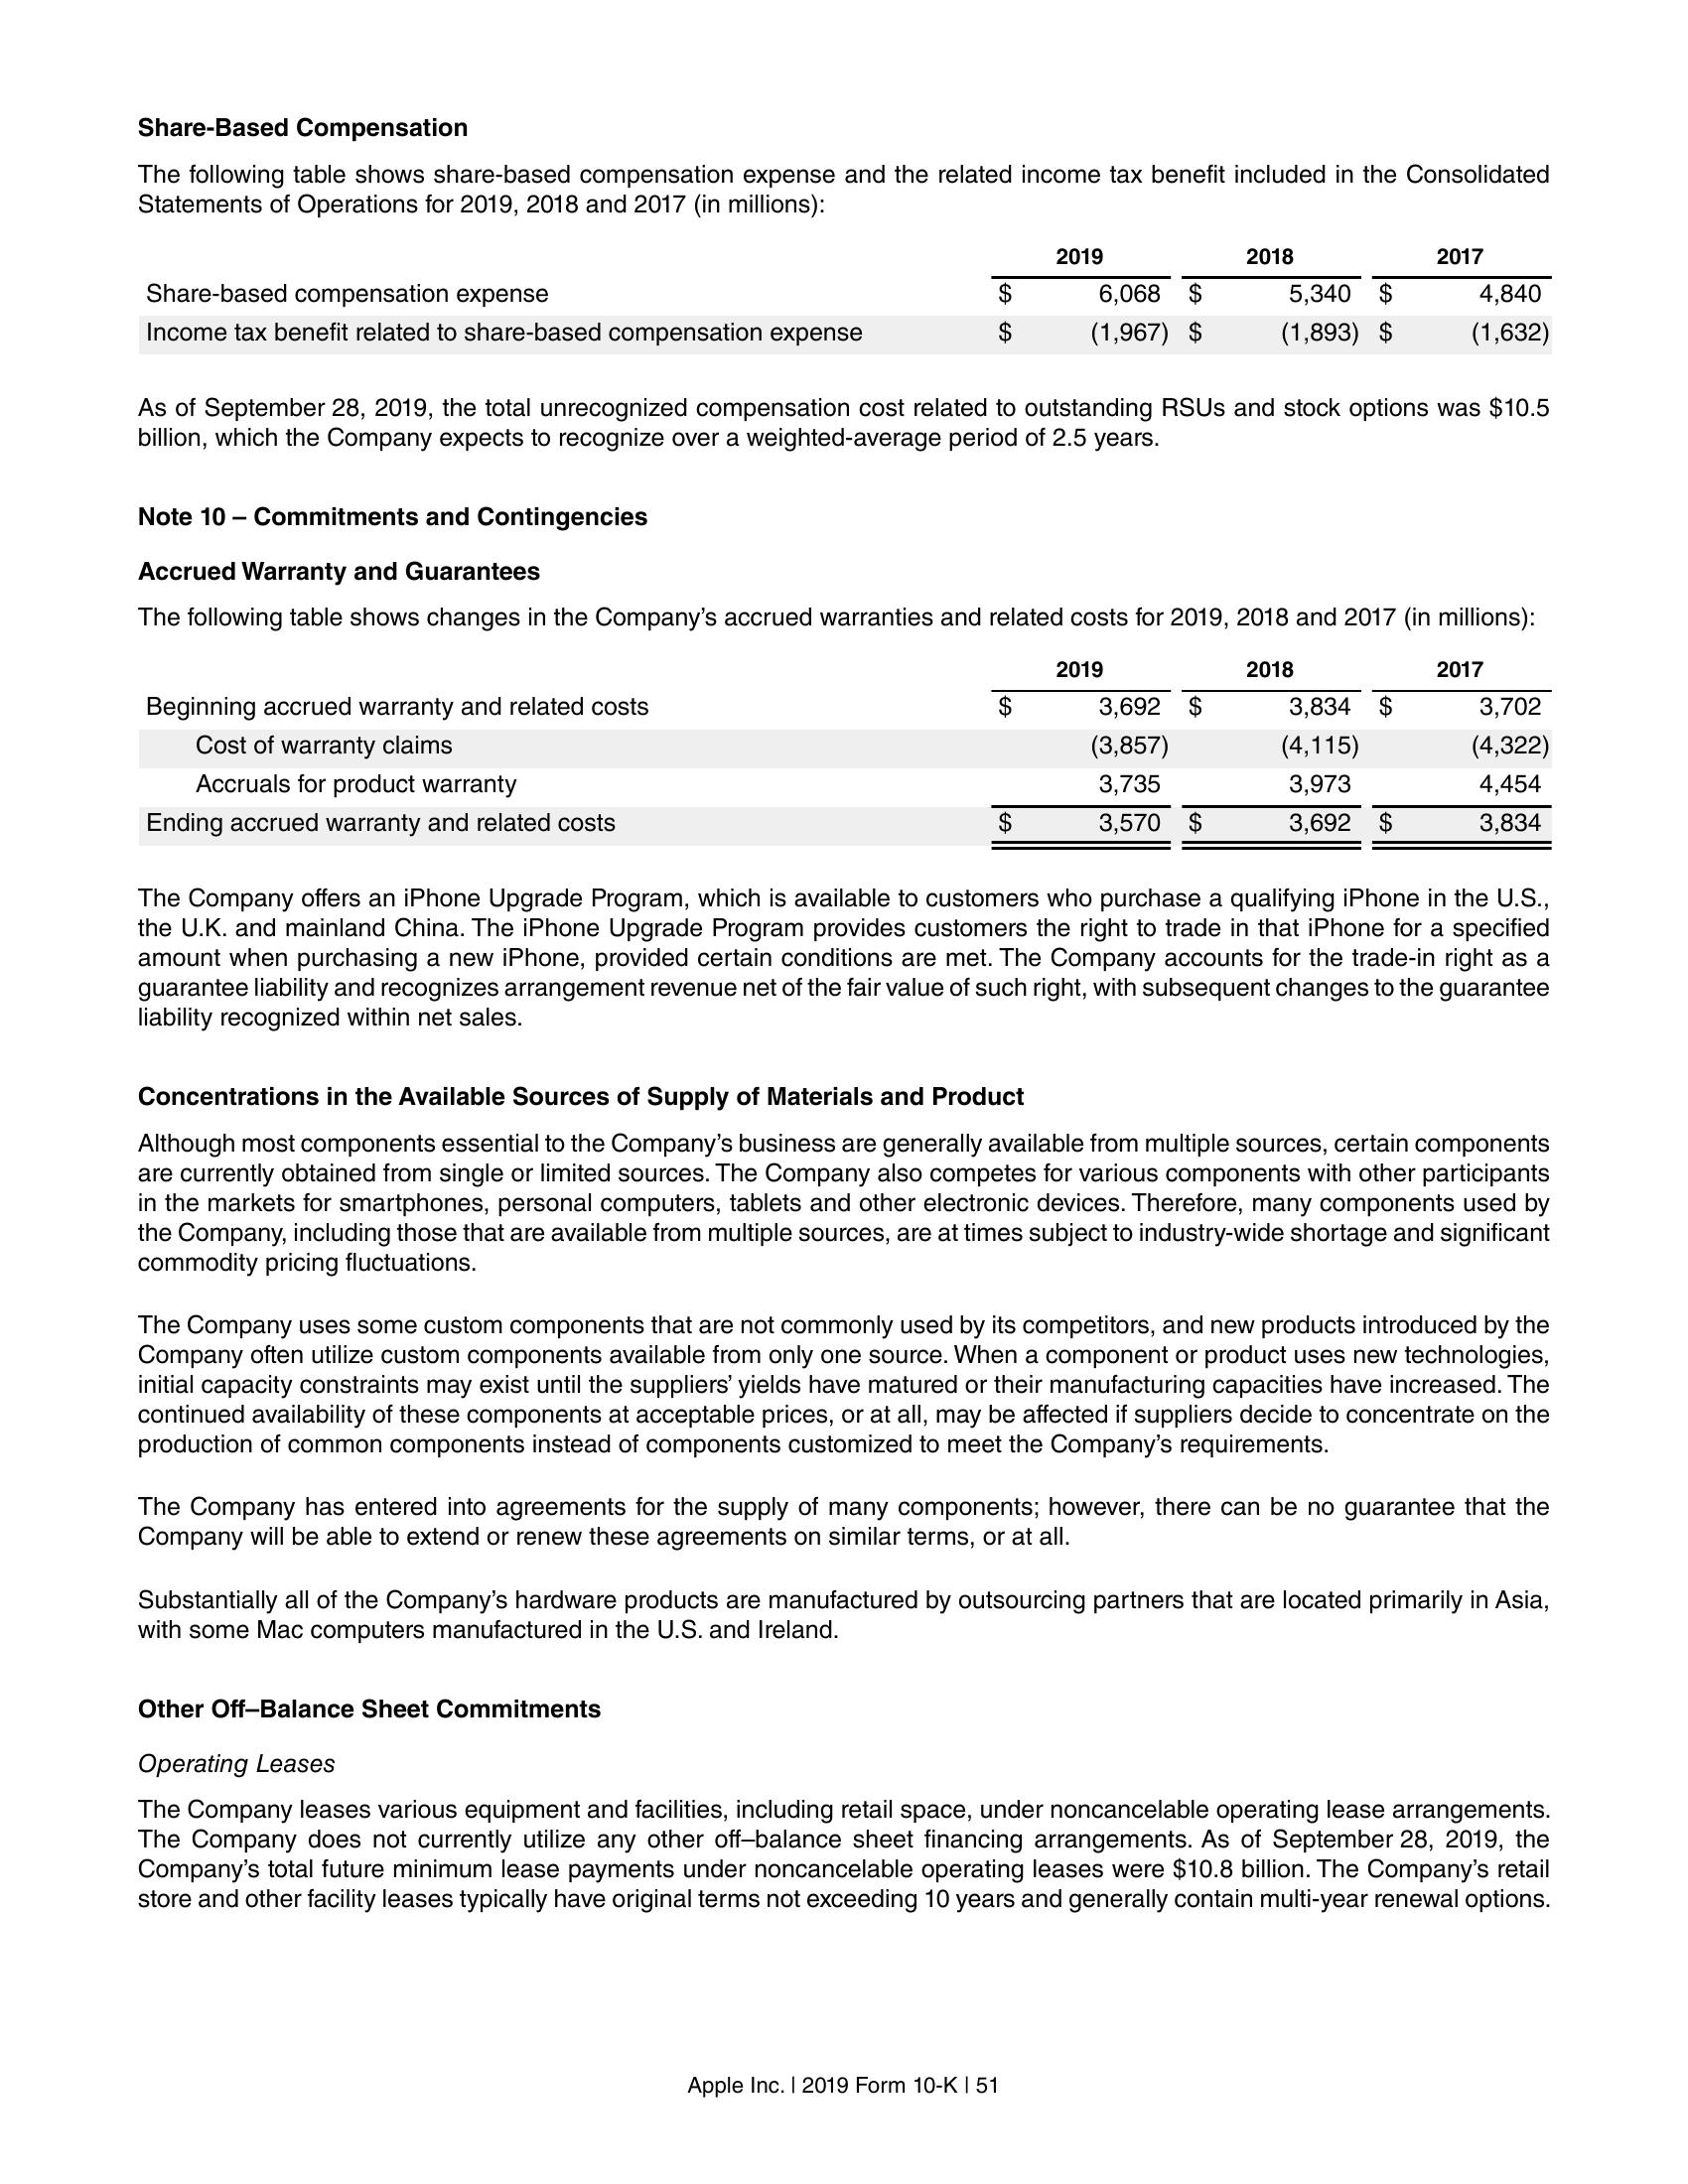table: (142, 645, 1559, 851), (137, 245, 1559, 351)
